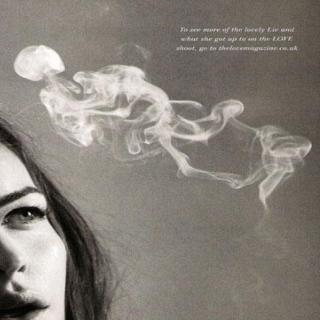smoke: (9, 50, 318, 200)
